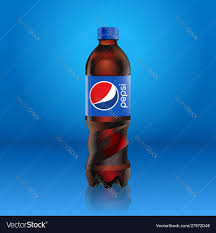Pepsi: (84, 26, 135, 188)
